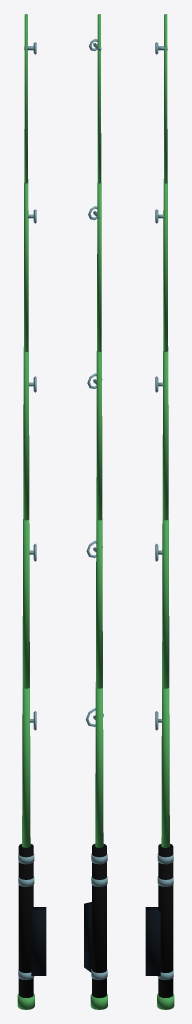
Rendered from spinning_rod.glb.
3 renders of one model, left to right at view 1: azimuth 90°, elevation 25°; view 2: azimuth 210°, elevation 25°; view 3: azimuth 270°, elevation 25°, orthographic.
Visible parts, largest first — view 1: spinning_rod_Handle, spinning_rod_Segment1, spinning_rod_Segment2, spinning_rod_Segment3, spinning_rod_Segment4, spinning_rod_Segment5; view 2: spinning_rod_Handle, spinning_rod_Segment1, spinning_rod_Segment2, spinning_rod_Segment3, spinning_rod_Segment4, spinning_rod_Segment5; view 3: spinning_rod_Handle, spinning_rod_Segment1, spinning_rod_Segment2, spinning_rod_Segment3, spinning_rod_Segment4, spinning_rod_Segment5.
Part boxes in pixels (x1,y1,x2,y2): spinning_rod_Handle: [17, 844, 46, 1009]; spinning_rod_Segment1: [22, 687, 36, 847]; spinning_rod_Segment2: [22, 519, 36, 688]; spinning_rod_Segment3: [23, 351, 36, 520]; spinning_rod_Segment4: [23, 183, 36, 351]; spinning_rod_Segment5: [24, 14, 36, 183]; spinning_rod_Handle: [84, 844, 107, 1009]; spinning_rod_Segment1: [86, 687, 103, 847]; spinning_rod_Segment2: [86, 519, 102, 688]; spinning_rod_Segment3: [87, 351, 102, 520]; spinning_rod_Segment4: [88, 182, 101, 351]; spinning_rod_Segment5: [89, 14, 101, 183]; spinning_rod_Handle: [145, 844, 174, 1009]; spinning_rod_Segment1: [155, 687, 169, 847]; spinning_rod_Segment2: [155, 519, 169, 688]; spinning_rod_Segment3: [155, 351, 168, 520]; spinning_rod_Segment4: [155, 183, 168, 351]; spinning_rod_Segment5: [155, 14, 167, 183].
Bounding box in the file's own units: 0.042 × 2.18 × 0.0572.
Materials: 1 (1 with a texture image).
